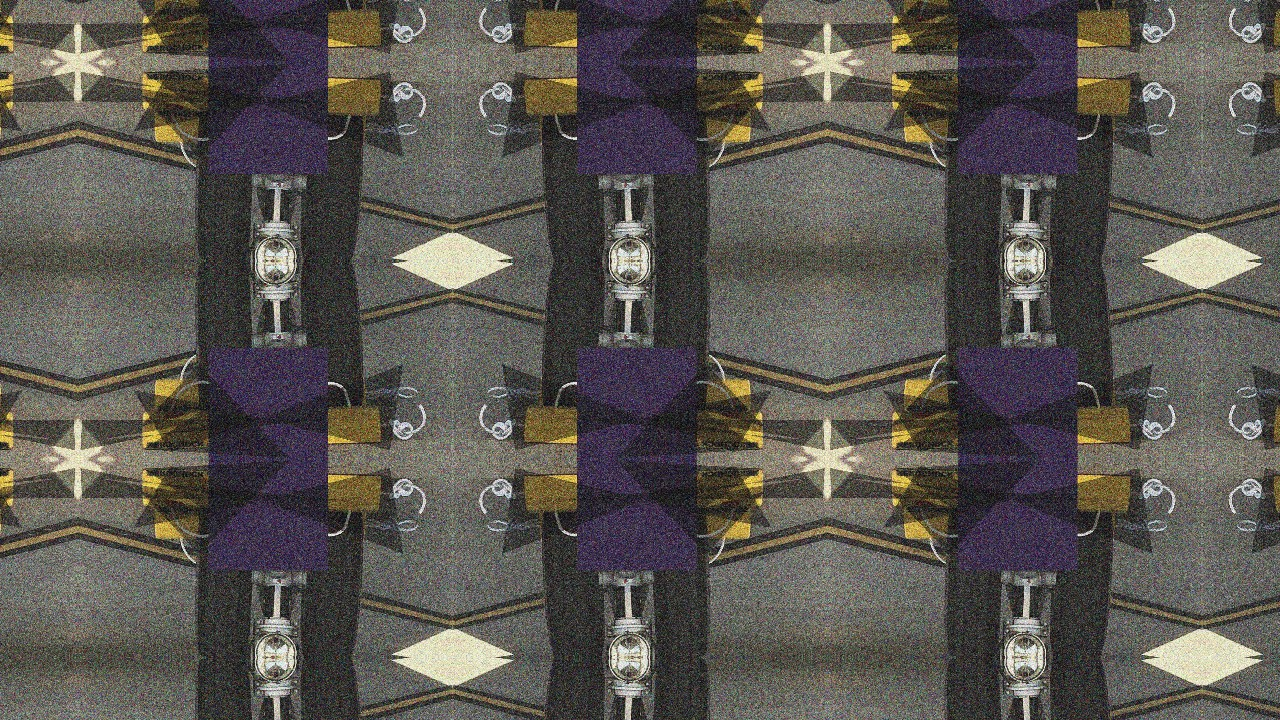chock: (139, 7, 383, 53), (522, 7, 766, 53), (889, 7, 1133, 53), (139, 71, 383, 117), (522, 71, 766, 117), (889, 71, 1133, 117), (139, 404, 383, 450), (522, 404, 766, 450), (889, 404, 1133, 450), (139, 468, 383, 514), (522, 468, 766, 514), (889, 468, 1133, 514), (152, 374, 371, 412), (534, 374, 752, 412), (903, 374, 1121, 412), (152, 110, 371, 147), (152, 507, 371, 544), (534, 110, 752, 147), (903, 110, 1121, 147), (534, 507, 752, 544), (903, 507, 1121, 544), (152, 0, 371, 15), (534, 0, 752, 15), (903, 0, 1121, 15), (0, 7, 16, 53), (0, 71, 16, 117), (0, 404, 16, 450), (0, 468, 16, 514)
wheel: (300, 114, 362, 261), (543, 114, 605, 261), (1050, 114, 1112, 261), (300, 511, 362, 658), (543, 511, 605, 658), (1050, 511, 1112, 658), (300, 261, 362, 407), (543, 261, 605, 407), (1050, 261, 1112, 407), (194, 110, 252, 260), (653, 110, 711, 260), (944, 110, 1002, 260), (194, 507, 252, 657), (653, 507, 711, 657), (944, 507, 1002, 657), (194, 262, 252, 411), (653, 262, 711, 411), (944, 262, 1002, 411), (300, 658, 362, 720), (543, 658, 605, 720), (1050, 658, 1112, 720), (194, 659, 252, 720), (653, 659, 711, 720), (944, 659, 1002, 720), (194, 0, 252, 14), (653, 0, 711, 14), (944, 0, 1002, 14), (300, 0, 362, 10), (543, 0, 605, 10), (1050, 0, 1112, 10)
